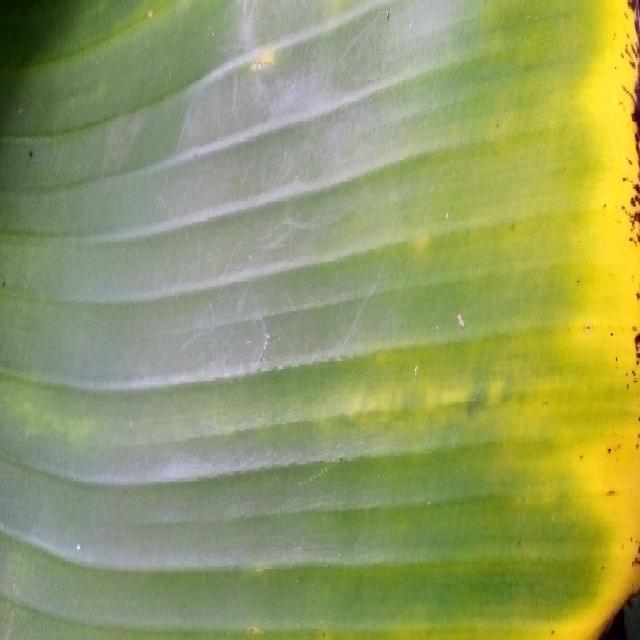Cordana: (440, 4, 640, 640), (277, 318, 487, 471), (0, 342, 97, 466), (375, 204, 451, 280), (225, 20, 284, 85)
